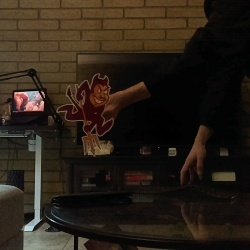sparky: (55, 72, 114, 157)
